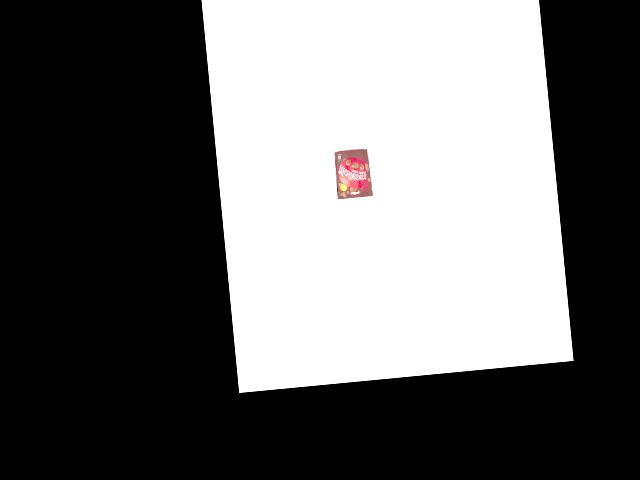chocolate: (332, 146, 373, 200)
